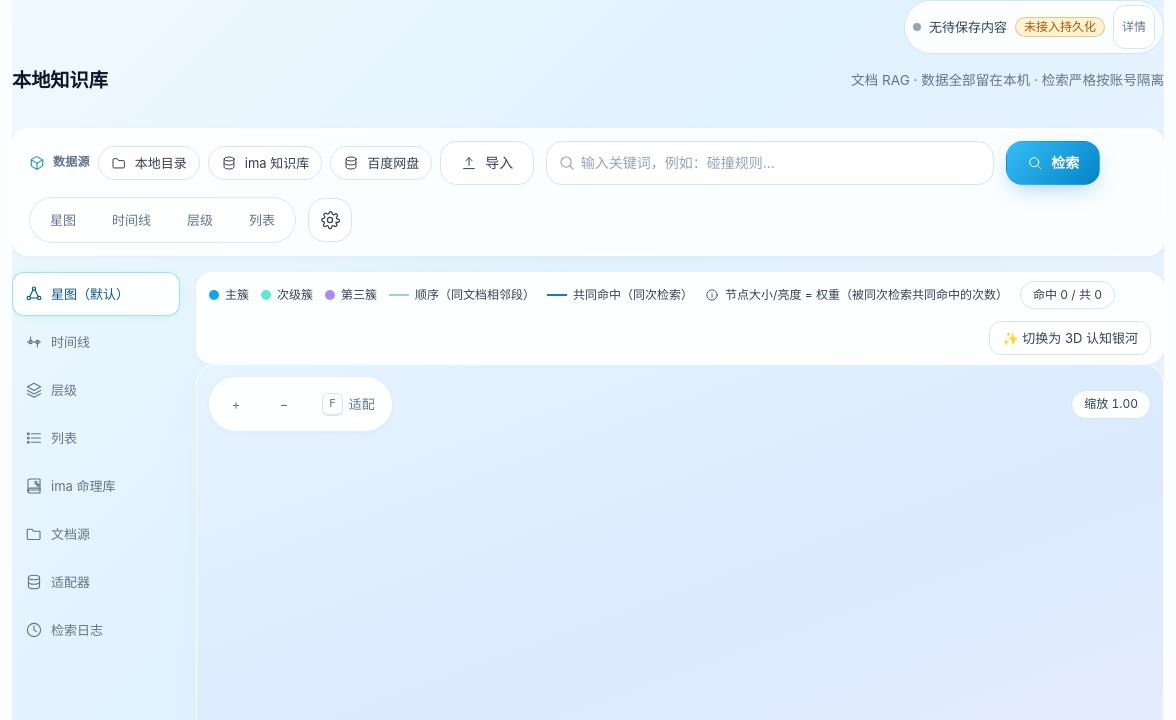
Scenario: KnowledgePage · 检索 › 命中时展示来源文档、得分与高亮
Type "碰撞规则" into the field named "知识库检索词" at (770,163), box 546,141 -> 994,185
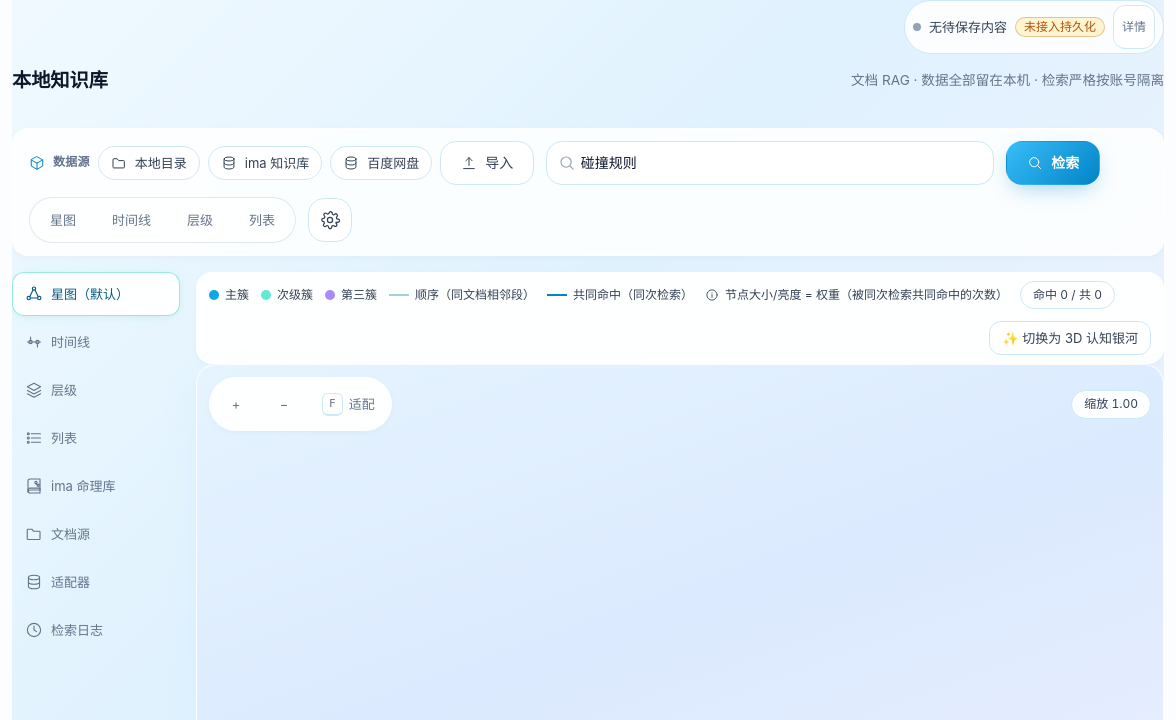
Click the button "检索" at (1053,163), box 1006,141 -> 1100,185
(page scrolled)
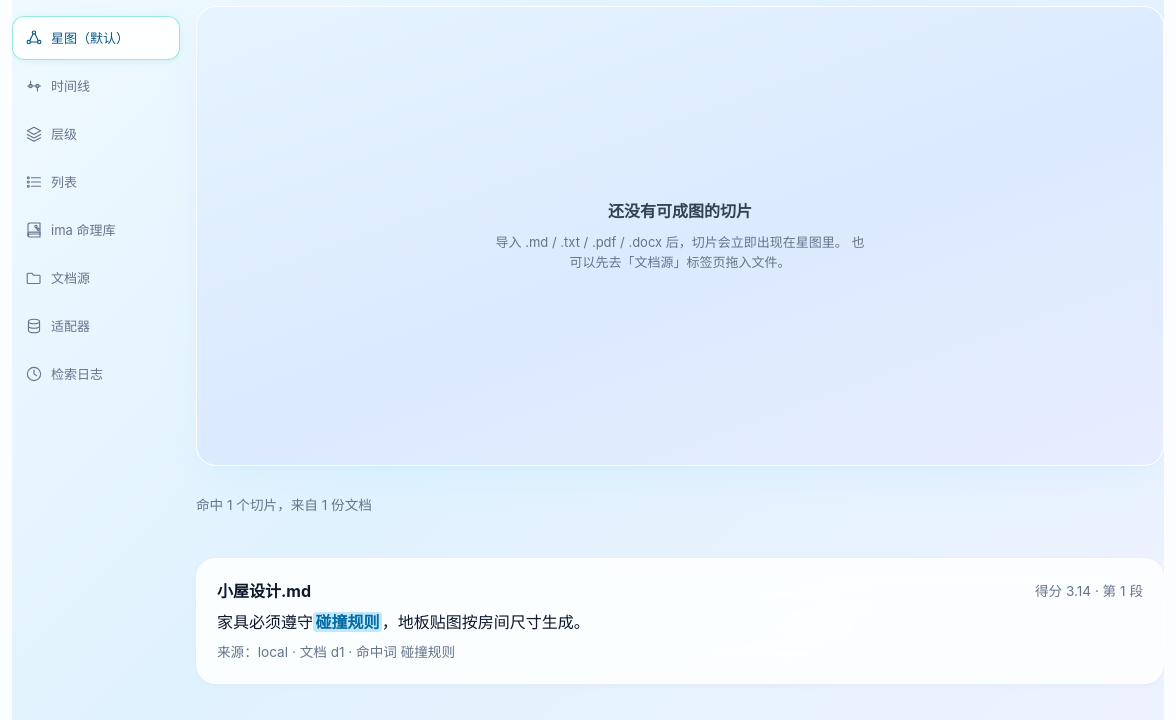
Now the element with test id "kb-results" shows "小屋设计.md", box 217,581 -> 311,601
Now the element with test id "kb-results" shows "得分 3.14", box 1035,583 -> 1143,599
Now the text "碰撞规则" is shown, box 313,612 -> 382,632
